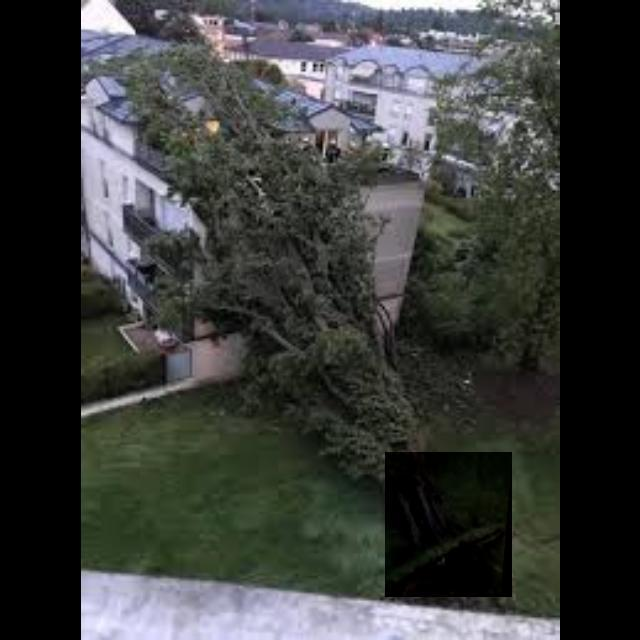fallen_tree: (385, 452, 513, 598)
